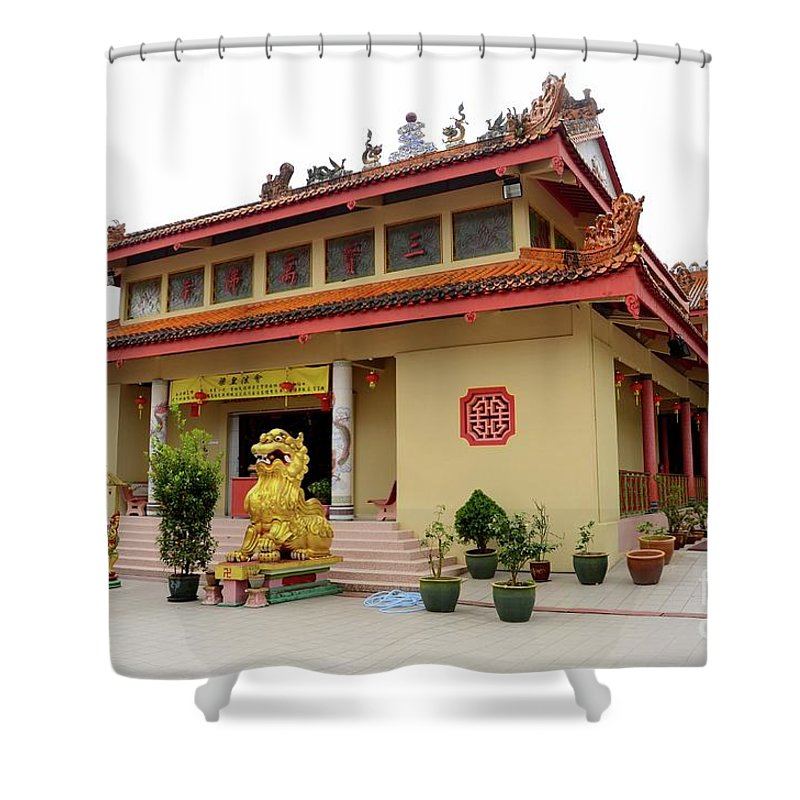Buddhist Temple: (113, 87, 685, 540)
